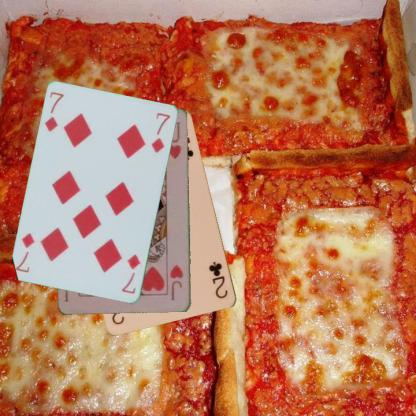2c: (206, 259, 230, 300)
7d: (119, 252, 142, 296), (42, 89, 65, 133)
Jh: (168, 262, 184, 302)
